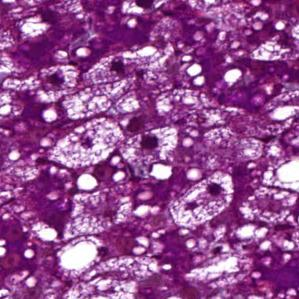ballooning: (48, 114, 126, 169), (168, 169, 237, 231), (120, 123, 182, 171)
